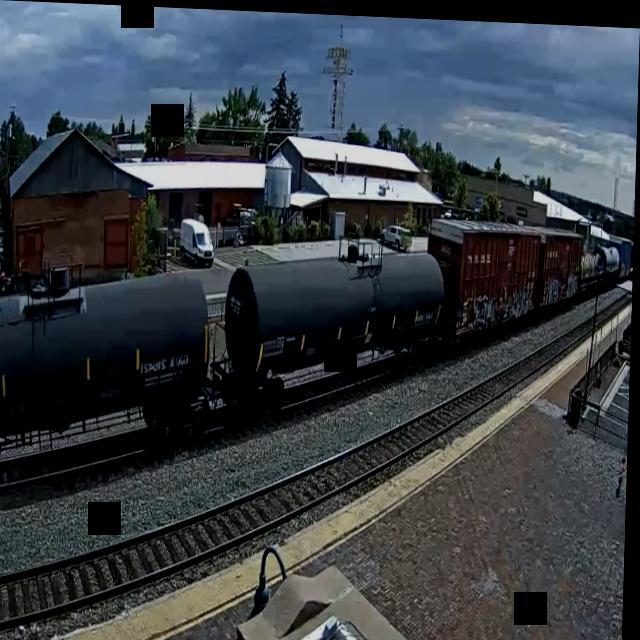tank: (0, 251, 223, 508), (217, 231, 452, 444), (424, 208, 547, 350)
